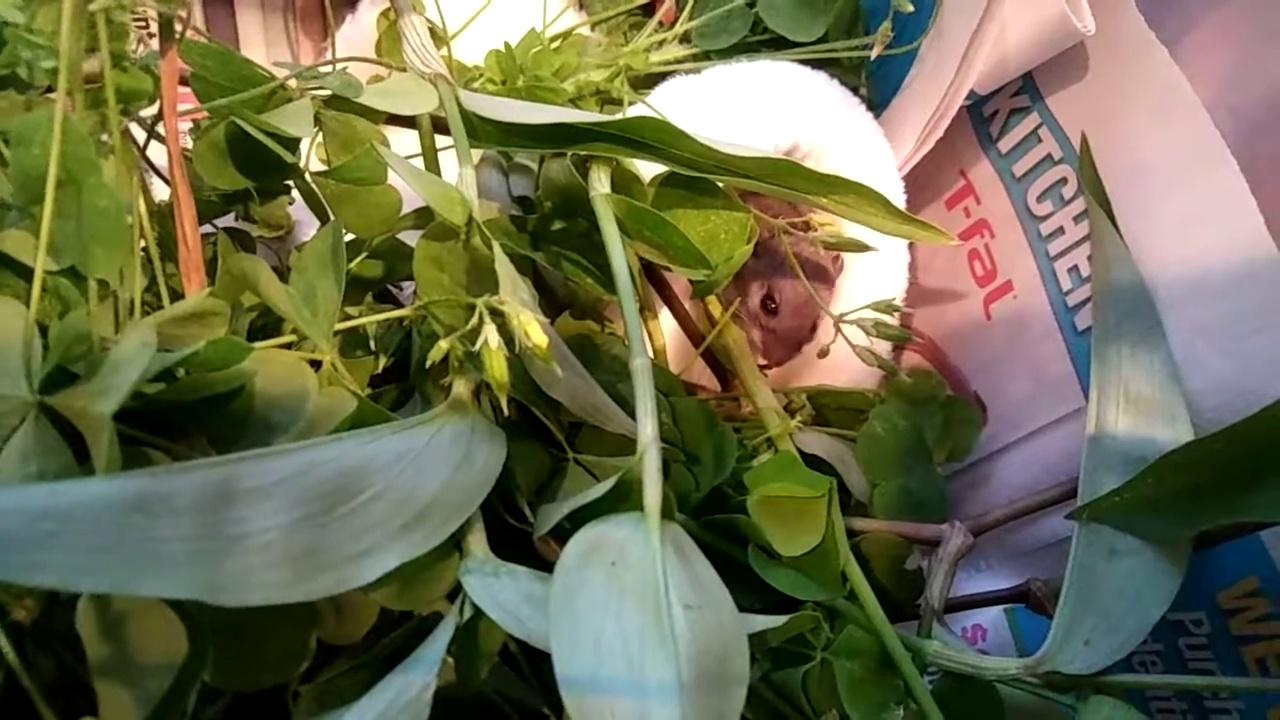rat: (724, 189, 836, 365)
